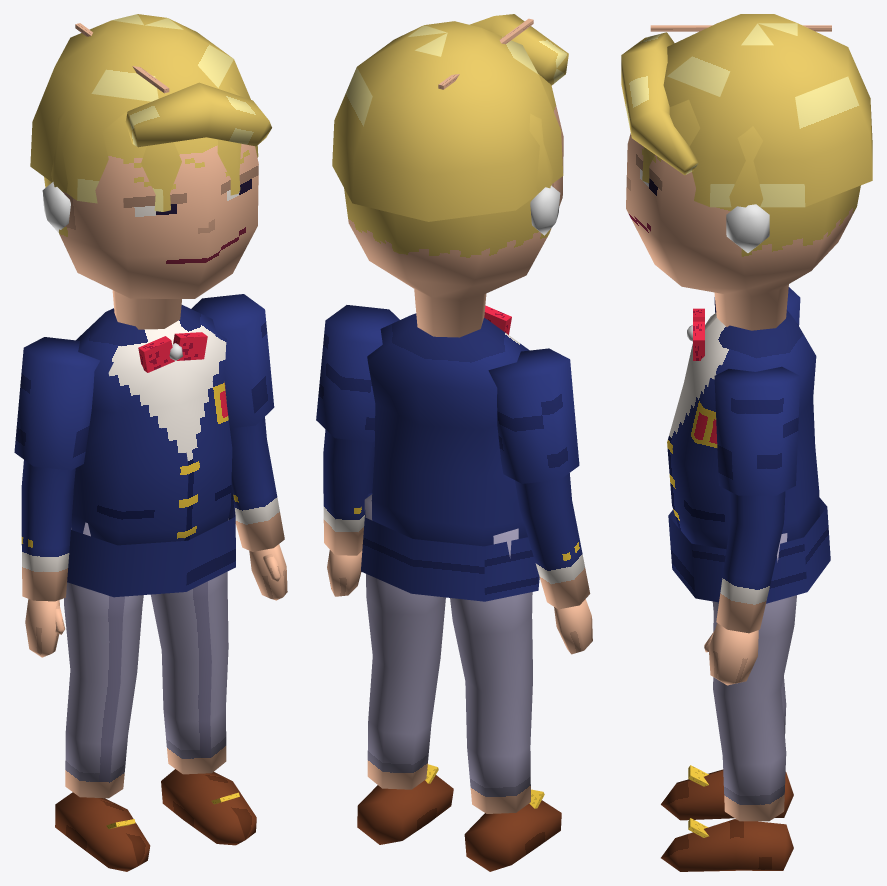
The model's file is Rich Kid.fbx.
3 renders of one model, left to right at view 1: azimuth 30°, elevation 25°; view 2: azimuth 150°, elevation 25°; view 3: azimuth 270°, elevation 25°, orthographic.
Visible parts, largest first — view 1: Rich Kid torso, Rich Kid head, Rich Kid hair cap, Rich Kid leg R.001, Rich Kid leg L.001, Rich Kid blazer shoulder R, Rich Kid blazer hem, Rich Kid side swoop, Rich Kid arm R.001, Rich Kid blazer shoulder L, Rich Kid arm L.001, Rich Kid shoe L (+6 smaller); view 2: Rich Kid hair cap, Rich Kid torso, Rich Kid head, Rich Kid leg R.001, Rich Kid leg L.001, Rich Kid blazer hem, Rich Kid blazer shoulder R, Rich Kid blazer shoulder L, Rich Kid arm R.001, Rich Kid arm L.001, Rich Kid shoe R, Rich Kid shoe L (+4 smaller); view 3: Rich Kid hair cap, Rich Kid head, Rich Kid torso, Rich Kid leg L.001, Rich Kid blazer shoulder L, Rich Kid arm L.001, Rich Kid blazer hem, Rich Kid side swoop, Rich Kid shoe L, Rich Kid shoe R, Rich Kid hand L, Rich Kid ear 1 (+1 smaller).
Part boxes in pixels (x1=…): Rich Kid torso: x1=71, y1=305, x2=232, y2=545; Rich Kid head: x1=44, y1=87, x2=258, y2=329; Rich Kid hair cap: x1=30, y1=14, x2=258, y2=211; Rich Kid leg R.001: x1=64, y1=522, x2=143, y2=798; Rich Kid leg L.001: x1=151, y1=518, x2=228, y2=774; Rich Kid blazer shoulder R: x1=14, y1=337, x2=99, y2=470; Rich Kid blazer hem: x1=67, y1=487, x2=235, y2=597; Rich Kid side swoop: x1=125, y1=82, x2=271, y2=147; Rich Kid arm R.001: x1=21, y1=460, x2=75, y2=601; Rich Kid blazer shoulder L: x1=191, y1=294, x2=274, y2=428; Rich Kid arm L.001: x1=223, y1=313, x2=284, y2=551; Rich Kid shoe L: x1=161, y1=769, x2=256, y2=845; Rich Kid hair cap: x1=332, y1=21, x2=563, y2=221; Rich Kid torso: x1=367, y1=313, x2=529, y2=546; Rich Kid head: x1=344, y1=73, x2=563, y2=337; Rich Kid leg R.001: x1=450, y1=528, x2=532, y2=813; Rich Kid leg L.001: x1=364, y1=494, x2=445, y2=789; Rich Kid blazer hem: x1=361, y1=493, x2=539, y2=601; Rich Kid blazer shoulder R: x1=488, y1=348, x2=579, y2=483; Rich Kid blazer shoulder L: x1=316, y1=305, x2=399, y2=442; Rich Kid arm R.001: x1=515, y1=473, x2=590, y2=609; Rich Kid arm L.001: x1=323, y1=429, x2=374, y2=555; Rich Kid shoe R: x1=464, y1=800, x2=561, y2=871; Rich Kid shoe L: x1=357, y1=775, x2=453, y2=844; Rich Kid hair cap: x1=642, y1=14, x2=872, y2=207; Rich Kid head: x1=626, y1=99, x2=860, y2=330; Rich Kid torso: x1=667, y1=310, x2=819, y2=549; Rich Kid leg L.001: x1=712, y1=533, x2=796, y2=821; Rich Kid blazer shoulder L: x1=714, y1=366, x2=800, y2=495; Rich Kid arm L.001: x1=716, y1=491, x2=785, y2=633; Rich Kid blazer hem: x1=668, y1=497, x2=830, y2=603; Rich Kid side swoop: x1=621, y1=32, x2=698, y2=175; Rich Kid shoe L: x1=661, y1=819, x2=793, y2=871; Rich Kid shoe R: x1=661, y1=769, x2=793, y2=820; Rich Kid hand L: x1=708, y1=623, x2=758, y2=685; Rich Kid ear 1: x1=726, y1=204, x2=769, y2=252.
Bounding box in the file's own units: 0.4006 × 1.22 × 0.3392.
Materials: 14 (12 with a texture image).
